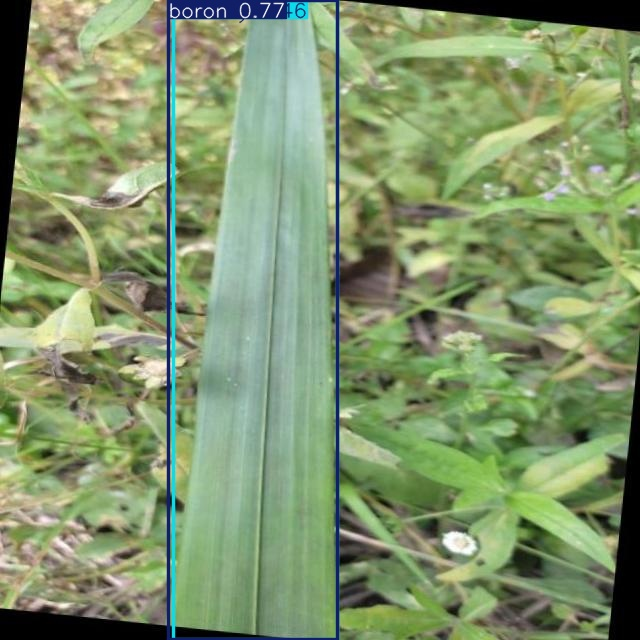Healthy: (174, 0, 337, 640)
nitrogen: (169, 0, 337, 640)
